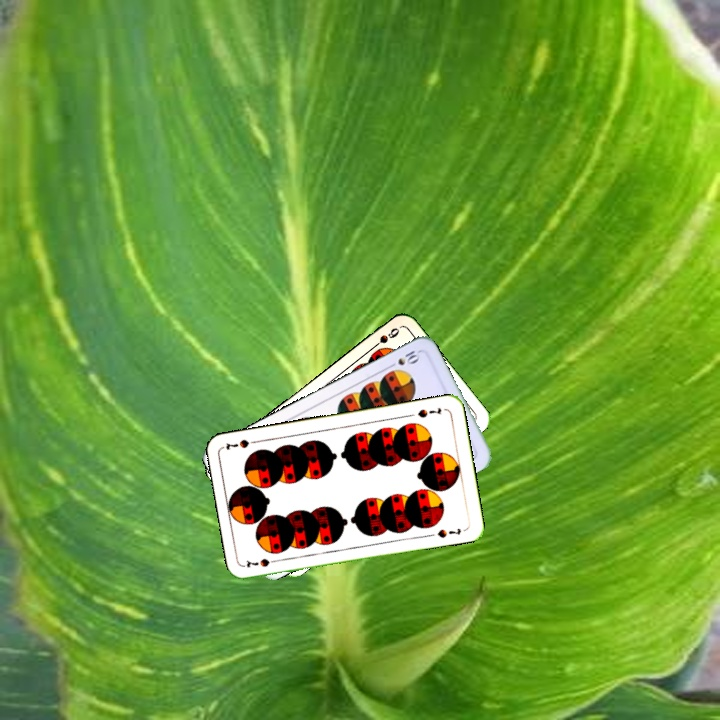S10: (384, 346, 422, 371)
S7: (242, 555, 282, 570), (414, 403, 444, 420)
S9: (367, 323, 402, 353)
